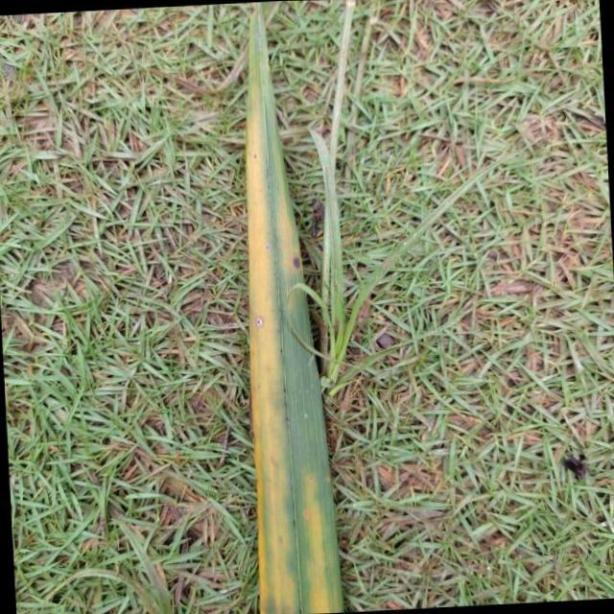Megnesium: (246, 0, 346, 614)
